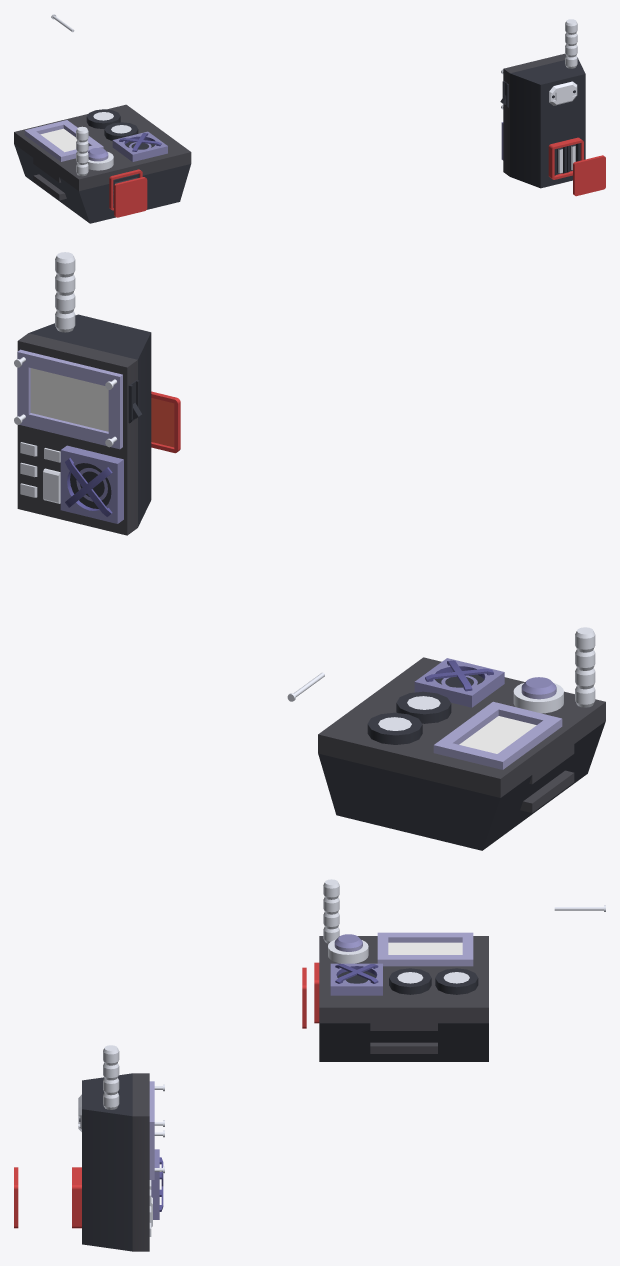
The model's file is Radio1-Radio2.fbx.
3 renders of one model, top to bottom at view 1: azimuth 30°, elevation 25°; view 2: azimuth 150°, elevation 25°; view 3: azimuth 270°, elevation 25°, orthographic. The views are drawn at different scales.
Parts seen in each view (by area): view 1: fuel_large, fuel_thin, detail_balcony (×5), window_small, tube_metal (×2), detail_ventLarge, detail_light (×2), detail_panelBoltsSmall; view 2: fuel_large, window_small (×2), fuel_thin, detail_ventLarge (×2), tube_metal (×2), detail_light (×2), detail_balcony (×2), detail_panelsB, cylinder; view 3: fuel_large, fuel_thin, window_small (×2), detail_ventLarge (×2), tube_metal (×2), detail_light (×2), cylinder.
Part boxes in pixels (box(x1,y1,x2,y2)): fuel_large: box(14, 104, 191, 223); fuel_thin: box(503, 53, 585, 188); detail_balcony (×5): box(114, 137, 605, 217); window_small: box(24, 120, 103, 161); tube_metal (×2): box(76, 19, 577, 176); detail_ventLarge: box(112, 131, 167, 161); detail_light (×2): box(86, 109, 138, 140); detail_panelBoltsSmall: box(549, 81, 577, 105); fuel_large: box(318, 657, 605, 850); window_small (×2): box(17, 349, 562, 769); fuel_thin: box(17, 314, 151, 535); detail_ventLarge (×2): box(60, 445, 504, 707); tube_metal (×2): box(55, 252, 595, 707); detail_light (×2): box(367, 691, 451, 744); detail_balcony (×2): box(151, 391, 180, 453); detail_panelsB: box(20, 442, 60, 503); cylinder: box(513, 683, 563, 713); fuel_large: box(319, 936, 488, 1061); fuel_thin: box(82, 1073, 149, 1251); window_small (×2): box(149, 932, 473, 1179); detail_ventLarge (×2): box(151, 963, 382, 1219); tube_metal (×2): box(103, 879, 339, 1109); detail_light (×2): box(389, 968, 478, 994); cylinder: box(328, 939, 368, 963).
Bounding box in the file's own units: 38 × 13.84 × 34.9.
